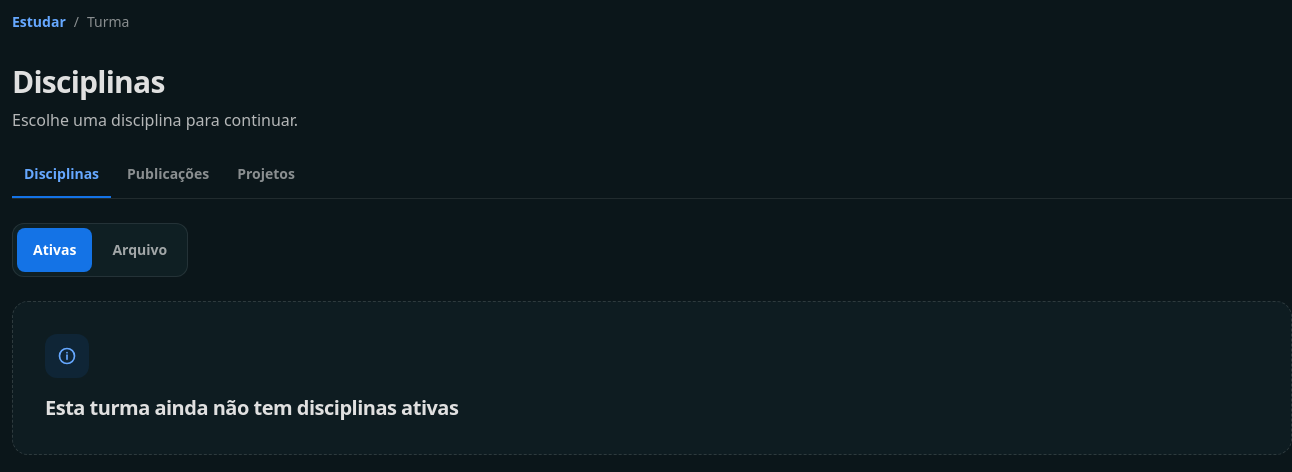
Test: paridade professor → aluno › não mostra ações IA sem endpoint histórico para disciplinas arquivadas
Click the button "Arquivo": (140, 250) [96, 228, 183, 272]
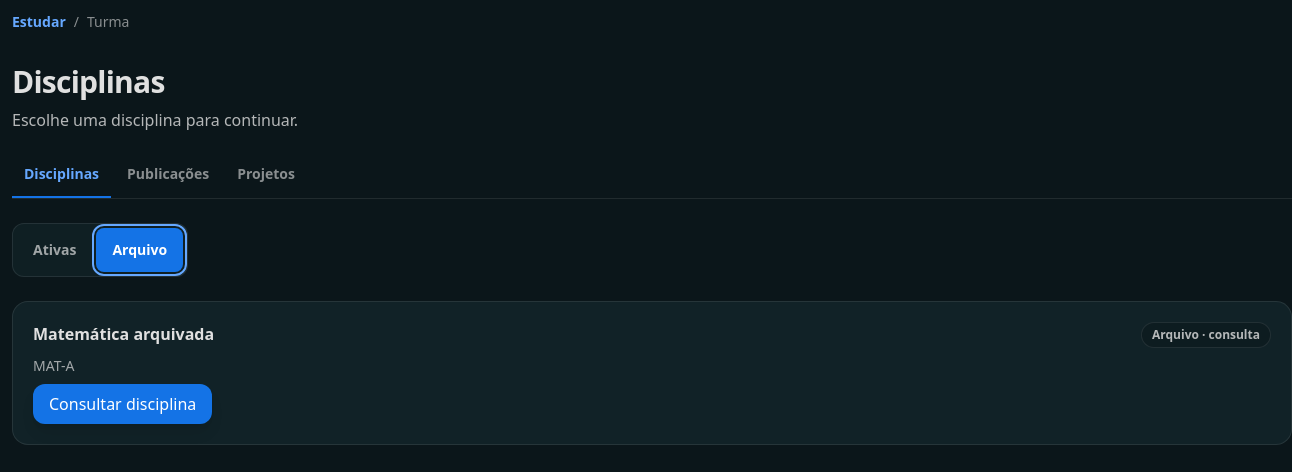
Expected: the heading "Matemática arquivada" is shown, [33, 322, 214, 346]
Expected: the link "Consultar disciplina" is shown, [33, 384, 212, 424]
